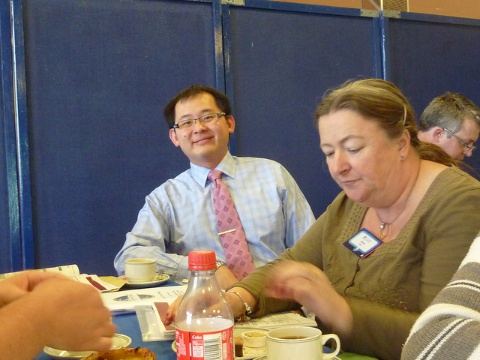hand: (263, 259, 337, 319)
